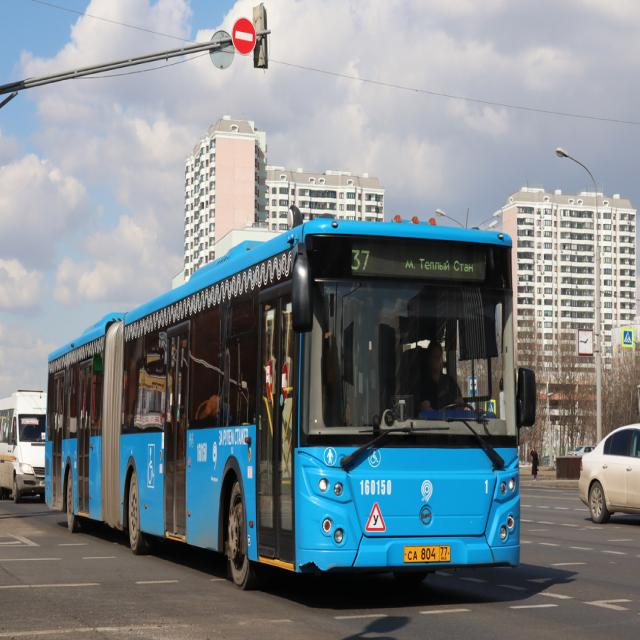number-of-bus: (352, 246, 373, 273)
